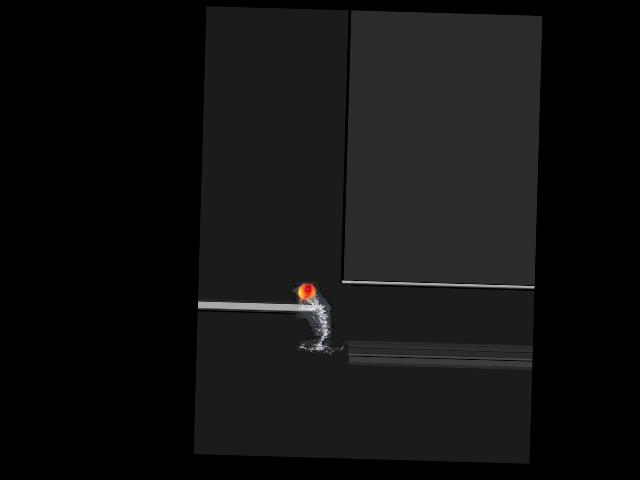tomato: (297, 283, 315, 300)
